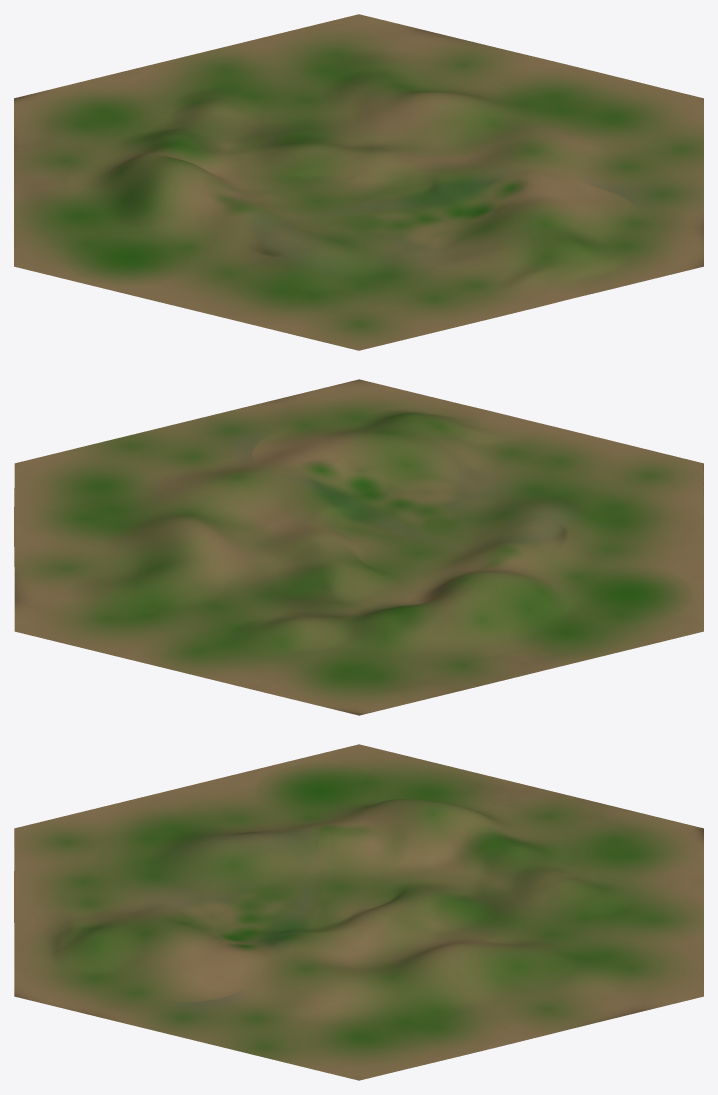
File: Forest4.glb
3 renders of one model, top to bottom at view 1: azimuth 30°, elevation 25°; view 2: azimuth 150°, elevation 25°; view 3: azimuth 270°, elevation 25°, orthographic.
Visible parts, largest first — view 1: Circle; view 2: Circle; view 3: Circle.
Boxes of the visible parts, x1=… form: Circle: x1=14, y1=14, x2=703, y2=350; Circle: x1=14, y1=379, x2=703, y2=715; Circle: x1=14, y1=744, x2=703, y2=1080.
Bounding box in the file's own units: 400 × 17.78 × 347.
1 material, 1 textured.
